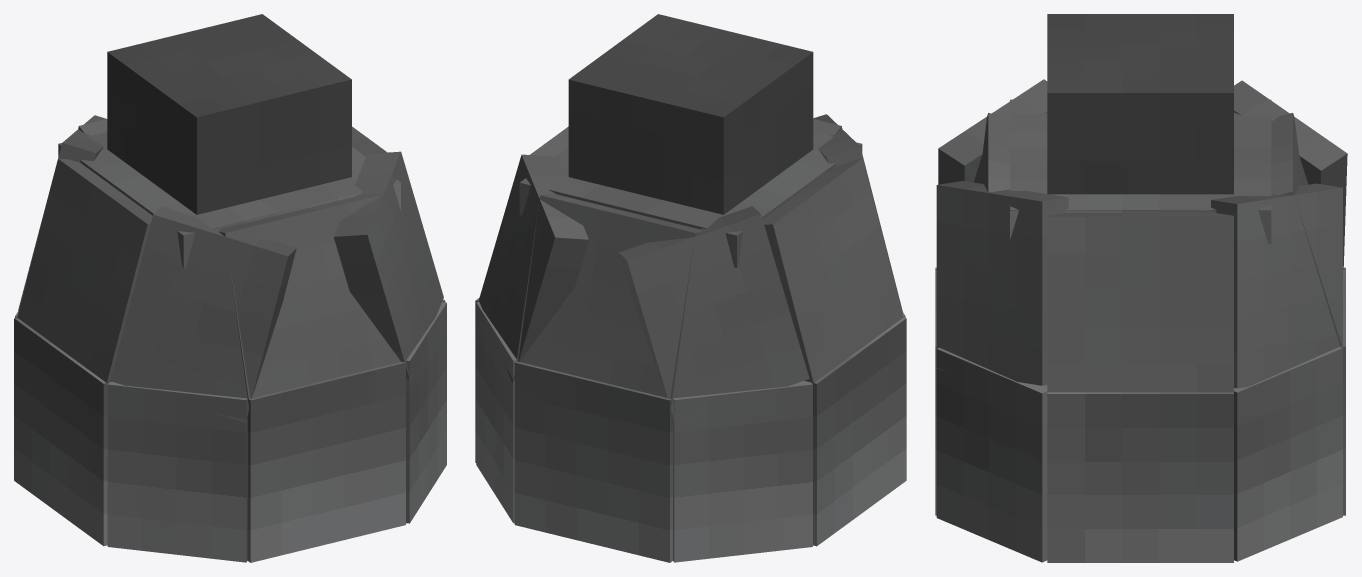
File: nozzle.obj
The picture shows the model from 3 angles, left to right: view 1: azimuth 30°, elevation 25°; view 2: azimuth 150°, elevation 25°; view 3: azimuth 270°, elevation 25°; orthographic projection. The views are drawn at different scales.
Visible parts, largest first — view 1: Nozzle; view 2: Nozzle; view 3: Nozzle.
Boxes of the visible parts, box(x1,y1,x2,y2) form: Nozzle: box(14, 14, 446, 562); Nozzle: box(475, 14, 906, 562); Nozzle: box(935, 14, 1347, 562).
Bounding box in the file's own units: 0.6875 × 0.7812 × 0.6902.
